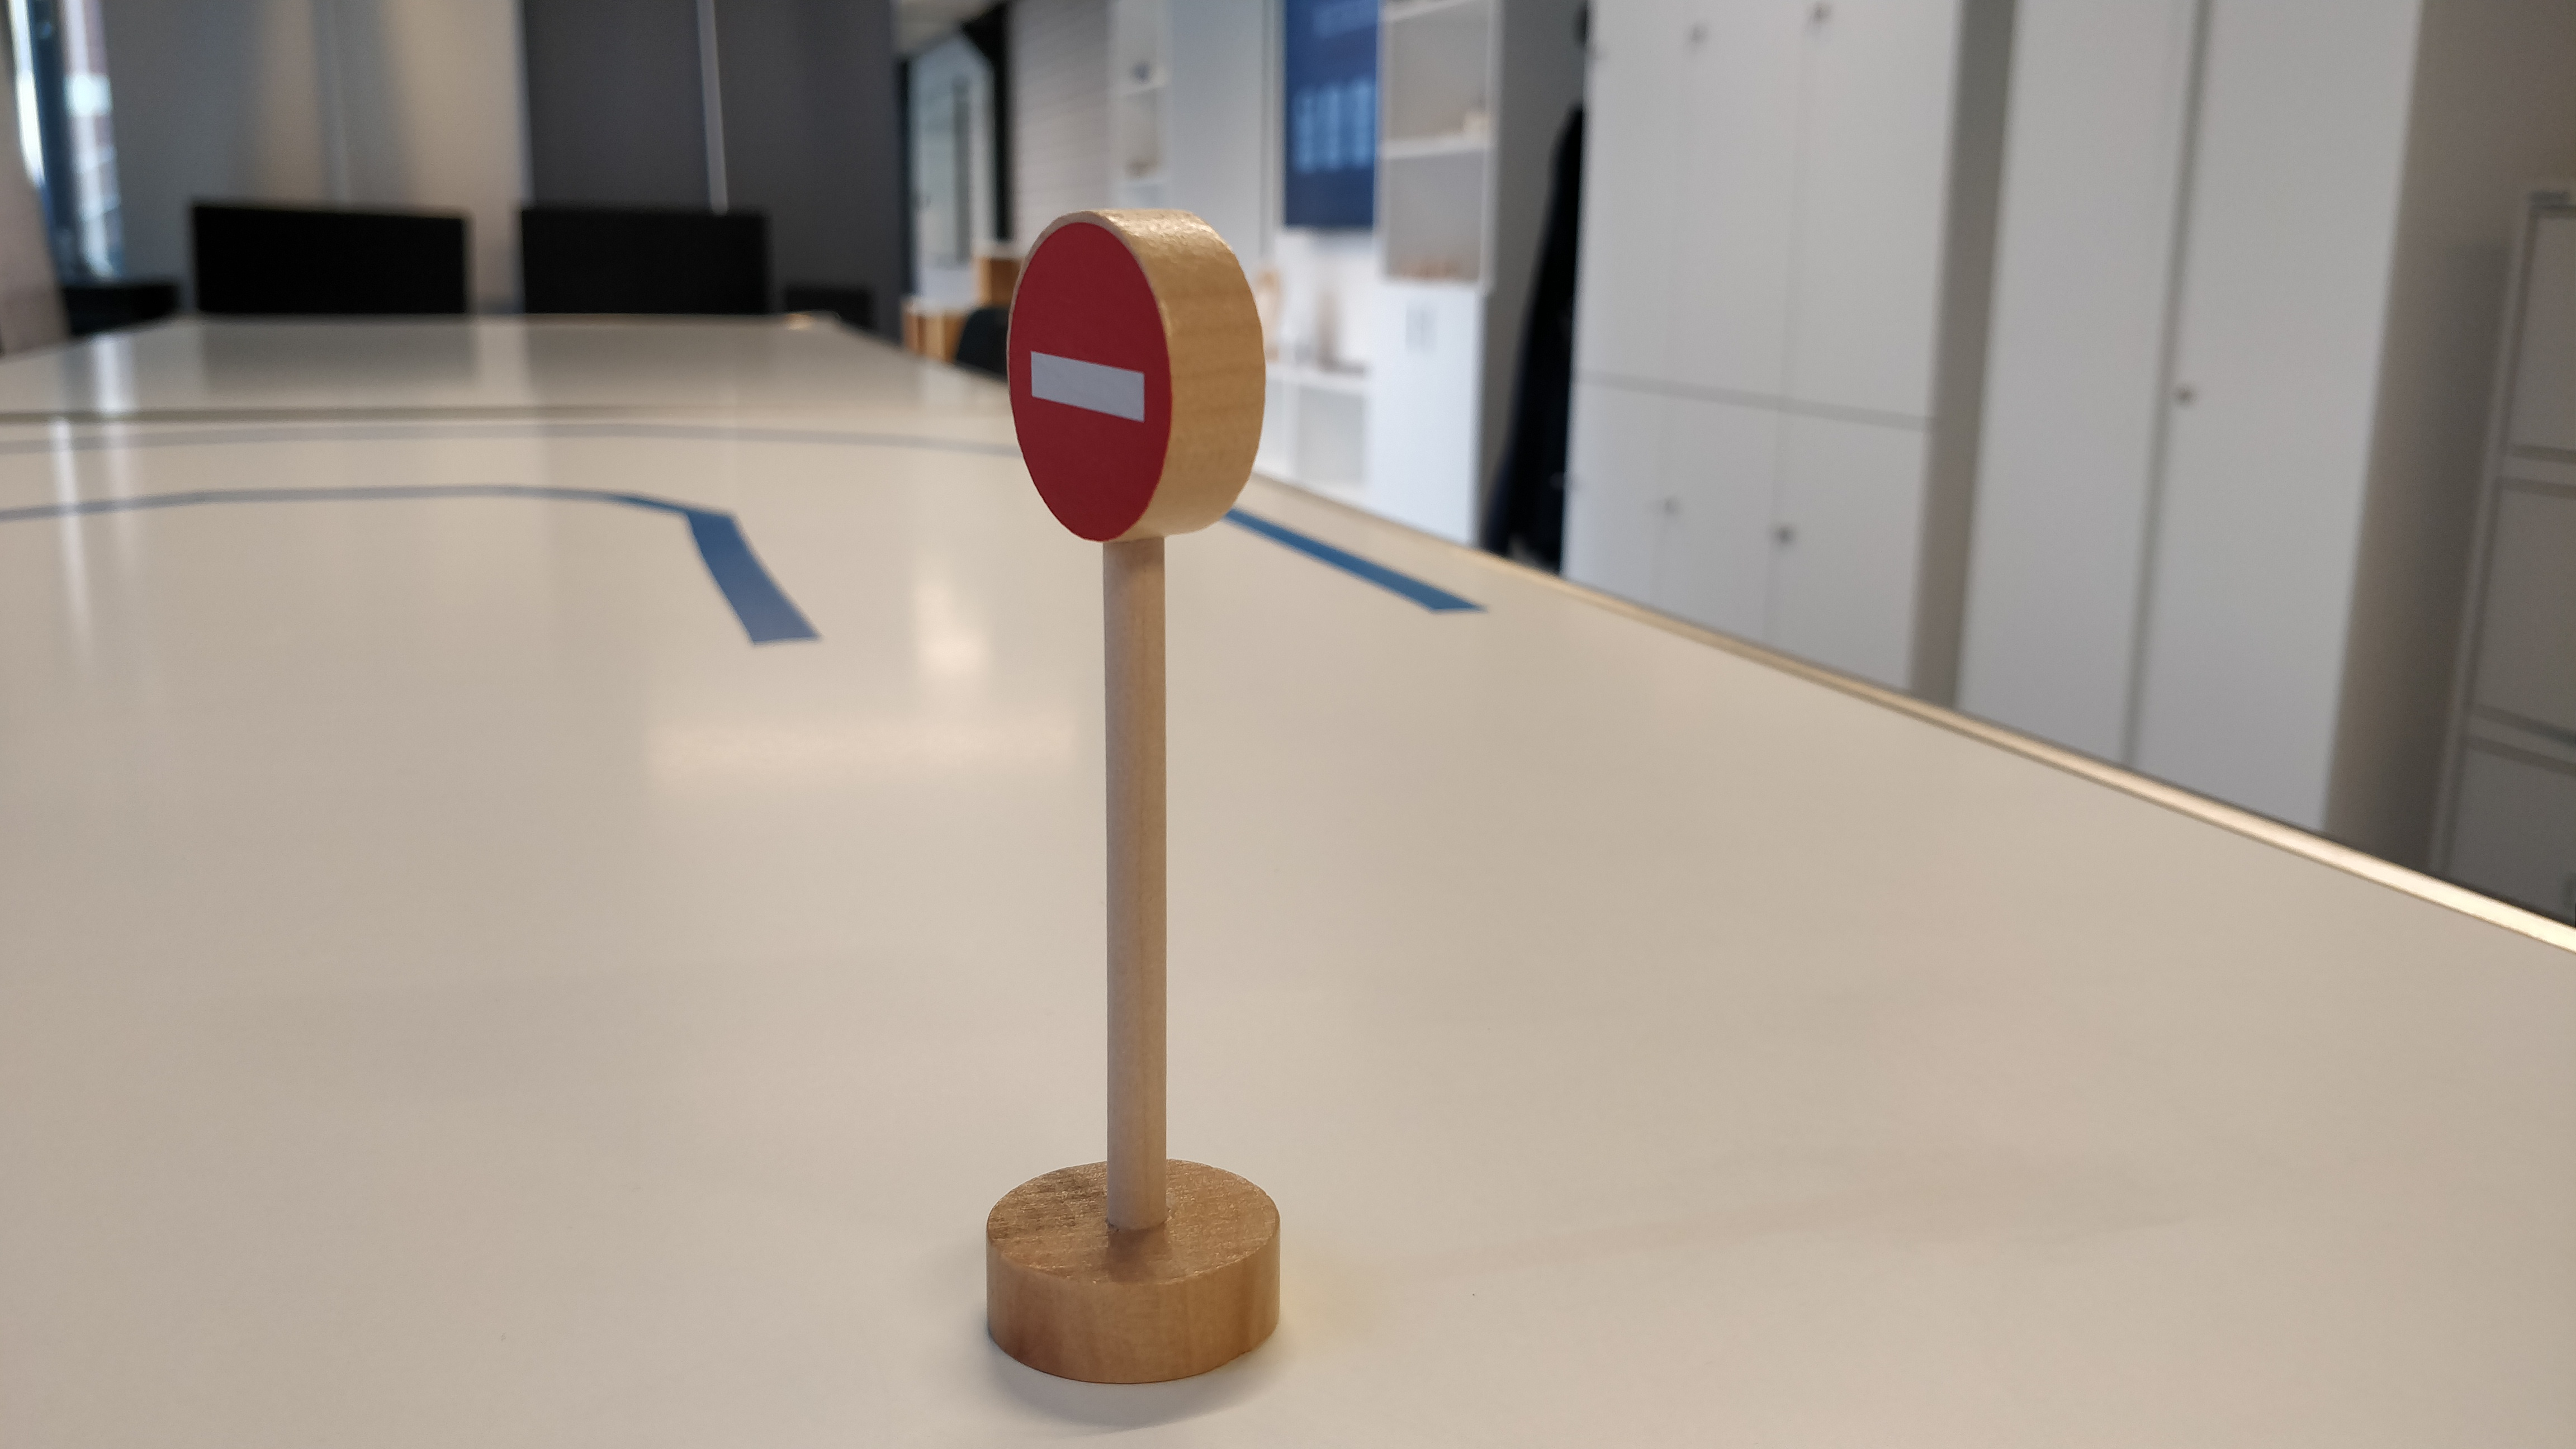Prohibition Sign: (1007, 205, 1272, 550)
